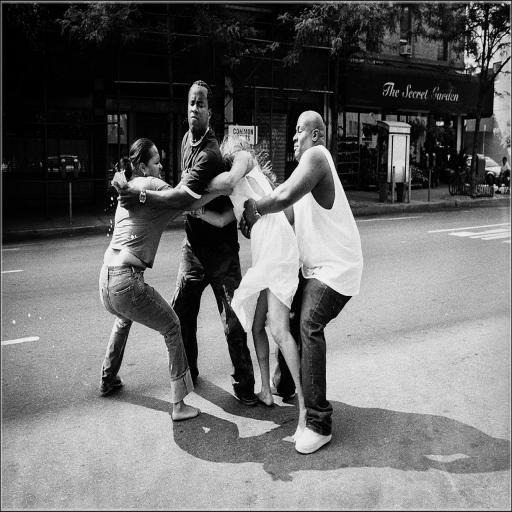fight: (68, 64, 396, 300)
